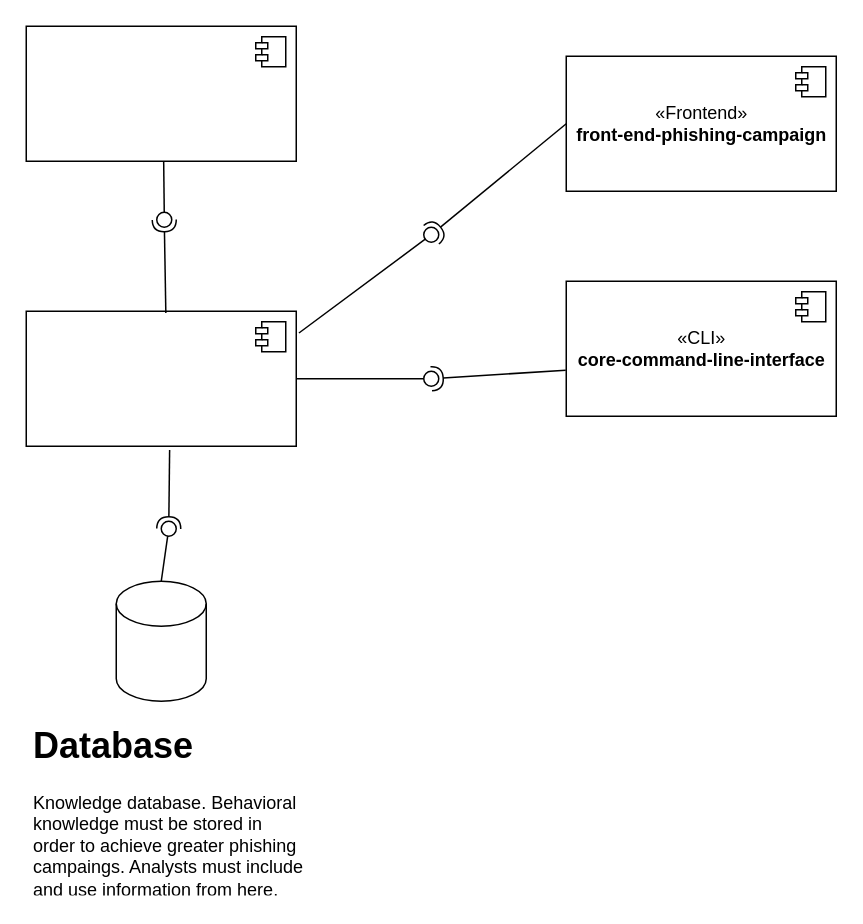
Some shapes in this 863 by 924 pixel diagram are drawn without their labels. Each missing label, with the centre of its shape:
"«Microsservice» bff-phishing-campaing" goes at point (160, 378).
"«System» Component" goes at point (160, 93).
